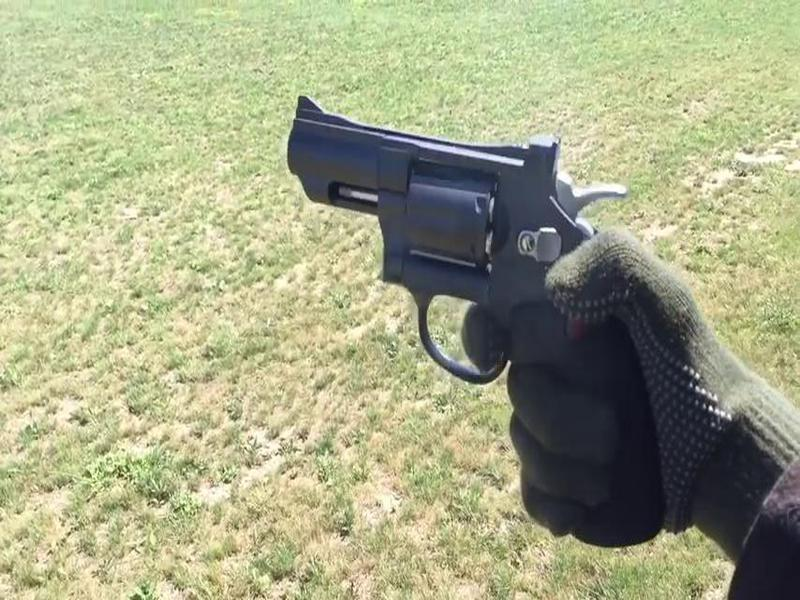Revolver: (260, 73, 683, 547)
